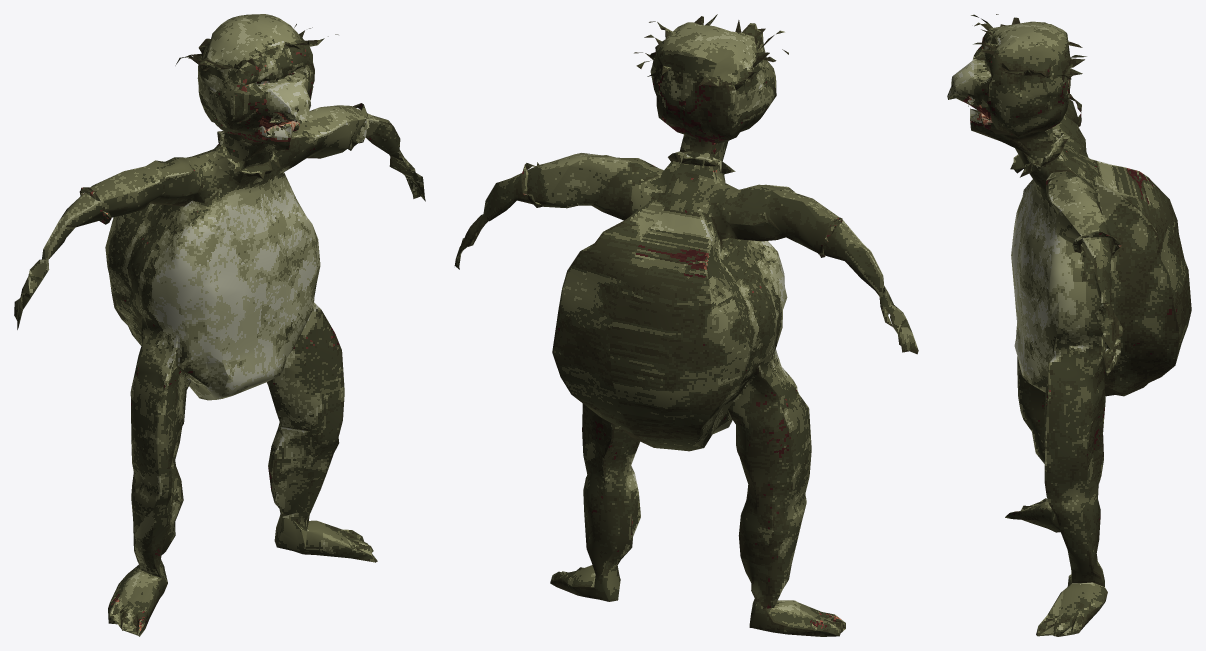
Rendered from yokai_kappa.glb.
3 views of the same model, side by side, from view 1: azimuth 30°, elevation 25°; view 2: azimuth 150°, elevation 25°; view 3: azimuth 270°, elevation 25° (orthographic). The views are drawn at different scales.
Visible parts, largest first — view 1: mesh; view 2: mesh; view 3: mesh.
Boxes of the visible parts, box(x1,y1,x2,y2) form: mesh: box(14, 14, 425, 636); mesh: box(454, 14, 918, 636); mesh: box(947, 14, 1191, 636).
Bounding box in the file's own units: 0.7581 × 0.95 × 0.383.
Materials: 1 (1 with a texture image).
